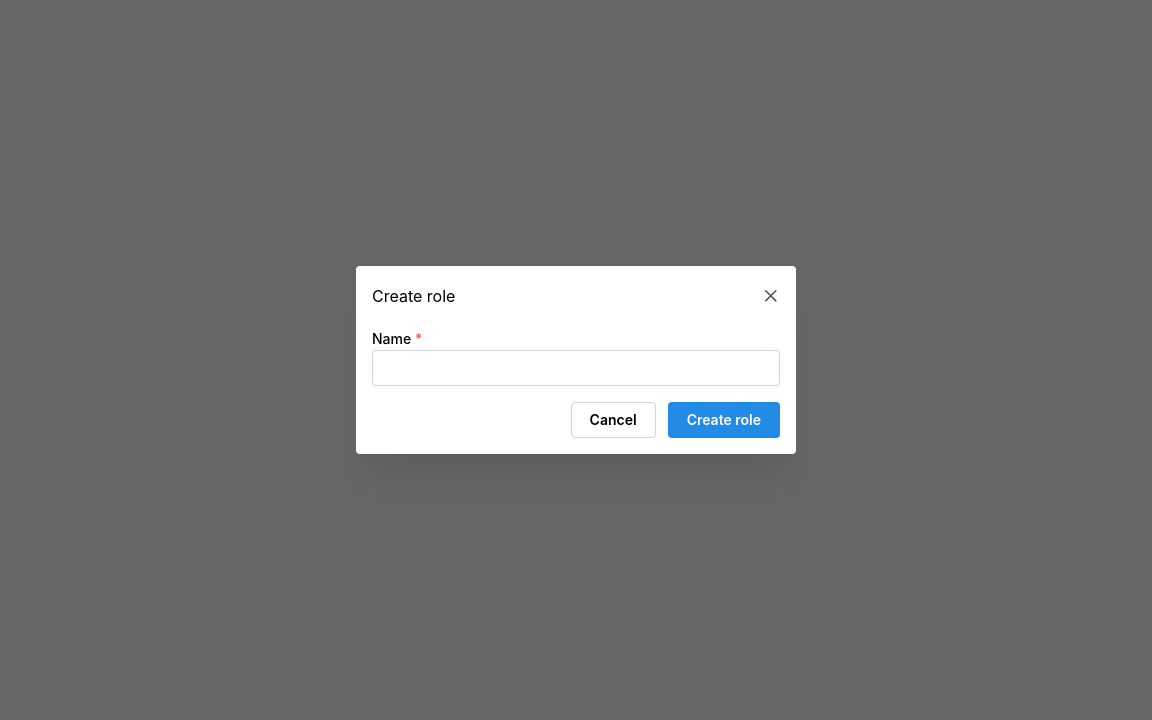
Test case: RoleFormModal › surfaces ApiError messages from the backend
Type "ROLE_USER" into the field labelled "Name *" at [576, 368], box [372,350,780,386]
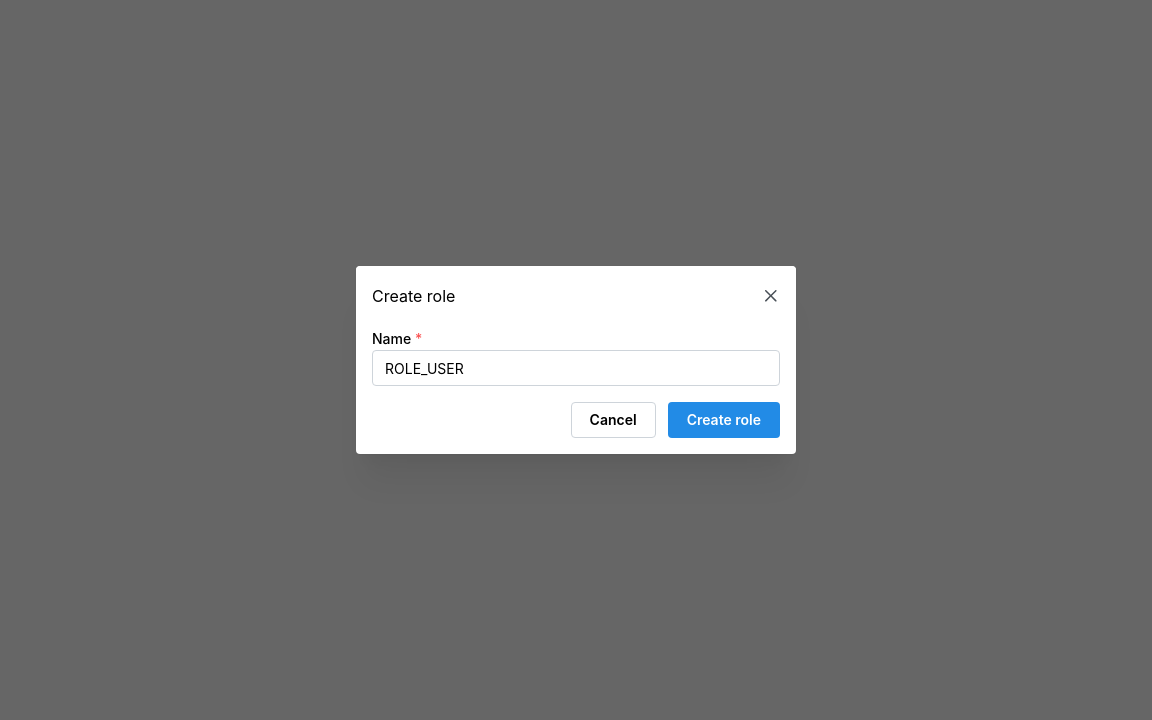
Submit the form "Name * Cancel Create role", box [372,326,780,438]
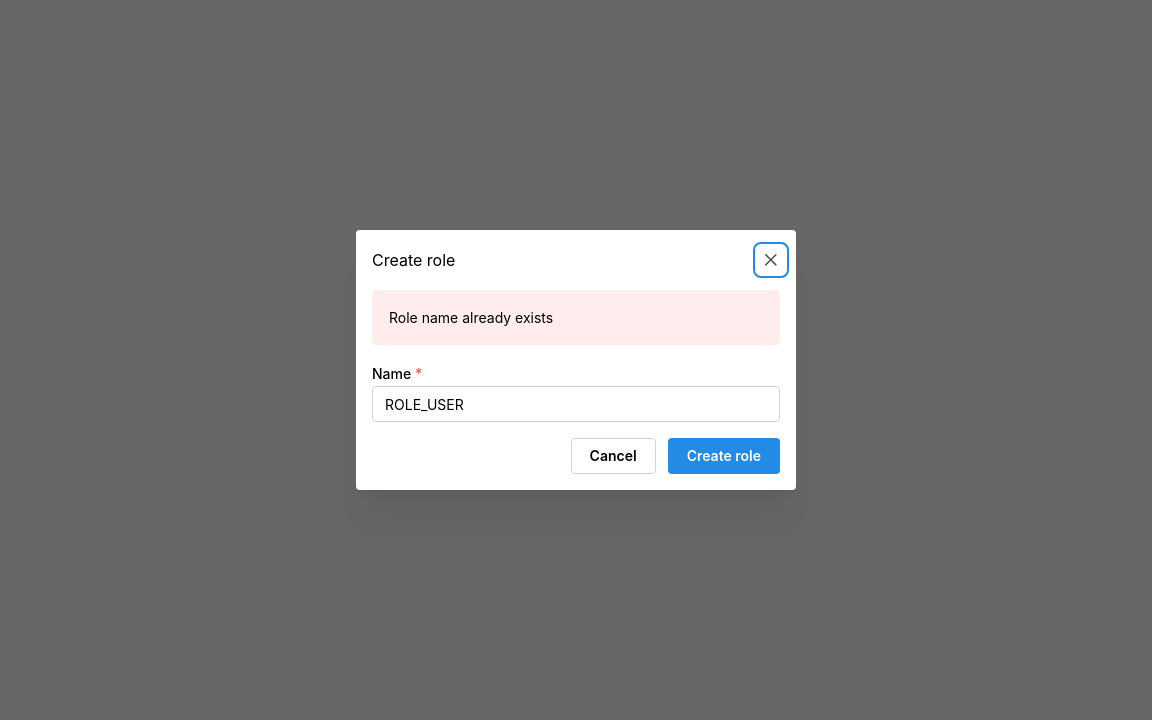
Check: the text "Role name already exists" is shown, box [389,309,553,326]
